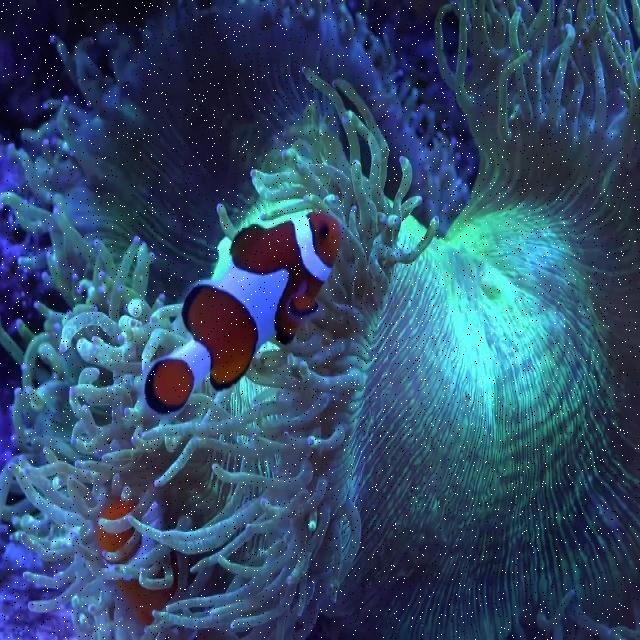fish: (136, 211, 340, 424), (92, 497, 180, 622)
reefs: (0, 0, 639, 639)
